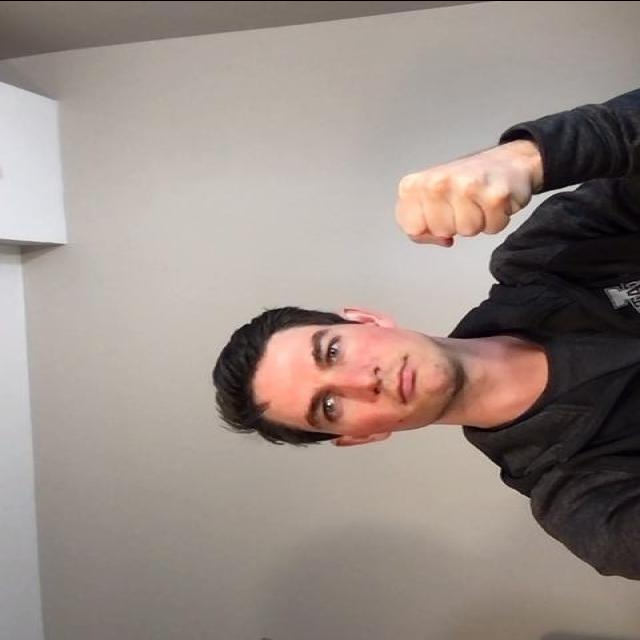Rock: (394, 139, 542, 249)
